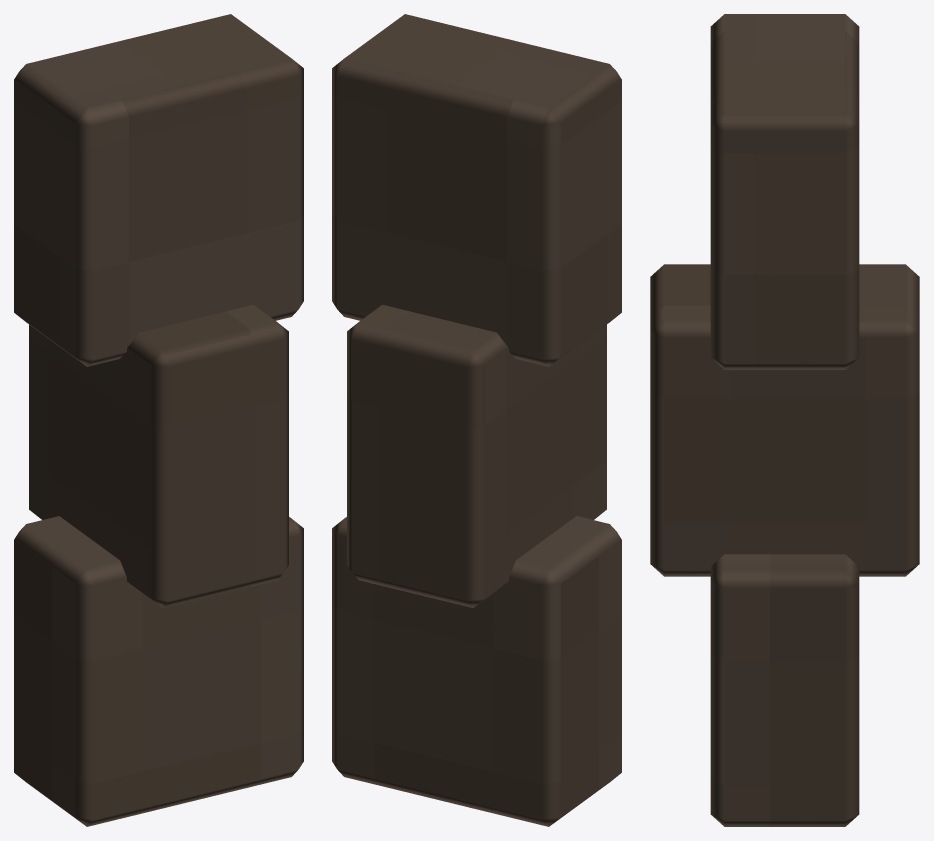
File: Hanger.glb
The picture shows the model from 3 angles, left to right: view 1: azimuth 30°, elevation 25°; view 2: azimuth 150°, elevation 25°; view 3: azimuth 270°, elevation 25°; orthographic projection.
Visible parts, largest first — view 1: Hanger; view 2: Hanger; view 3: Hanger.
Boxes of the visible parts, left/top/right/bottom form: Hanger: left=14, top=14, right=303, bottom=826; Hanger: left=332, top=14, right=621, bottom=826; Hanger: left=650, top=14, right=919, bottom=826.
Bounding box in the file's own units: 0.076 × 0.228 × 0.078.
Materials: 1 (1 with a texture image).
